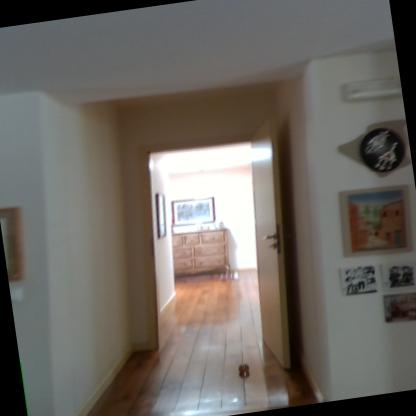open: (100, 110, 325, 415)
